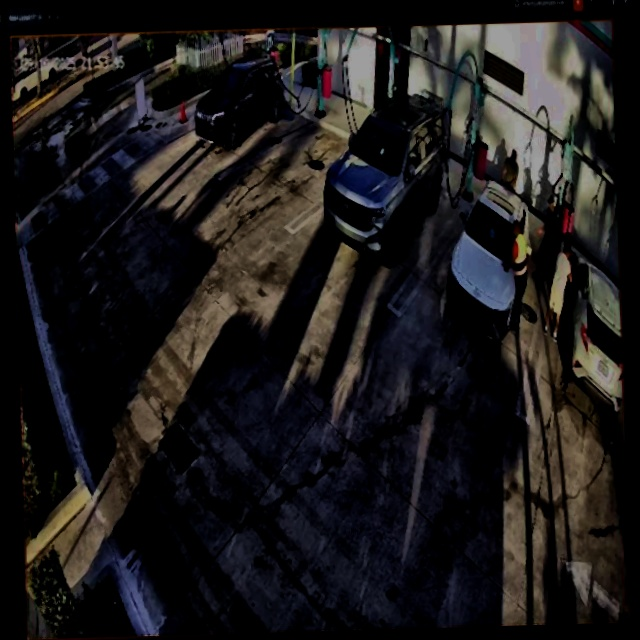Car: (320, 95, 452, 268), (444, 181, 532, 342), (193, 58, 286, 153)
